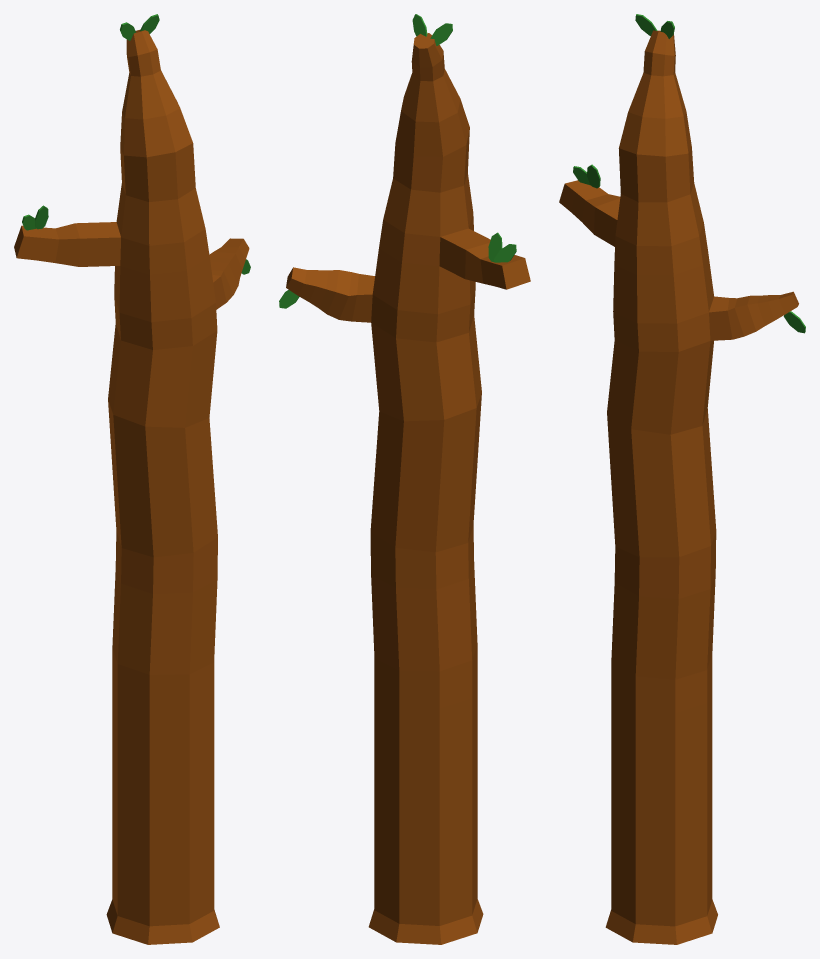
File: ArbolPacaer.fbx
3 views of the same model, side by side, from view 1: azimuth 30°, elevation 25°; view 2: azimuth 150°, elevation 25°; view 3: azimuth 330°, elevation 25° (orthographic).
Parts seen in each view (by area): view 1: Cylinder.005; view 2: Cylinder.005; view 3: Cylinder.005.
Part boxes in pixels (x1=…): Cylinder.005: x1=14, y1=14, x2=250, y2=944; Cylinder.005: x1=279, y1=14, x2=530, y2=944; Cylinder.005: x1=559, y1=14, x2=805, y2=944.
Bounding box in the file's own units: 528 × 1885 × 244.
